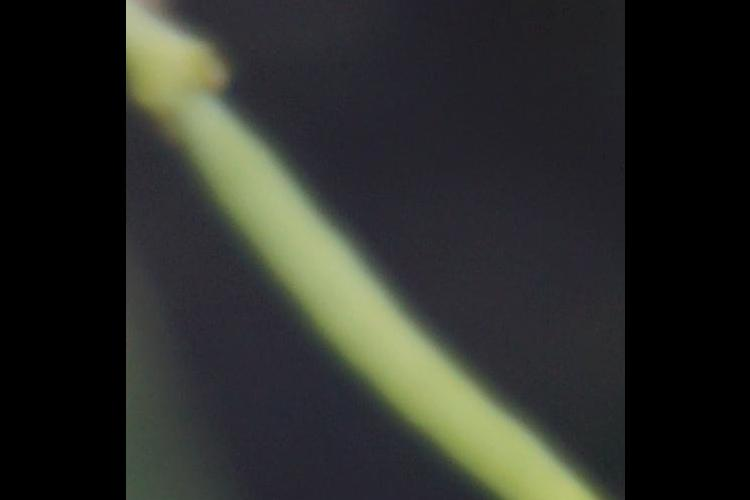pod: (141, 1, 616, 500)
